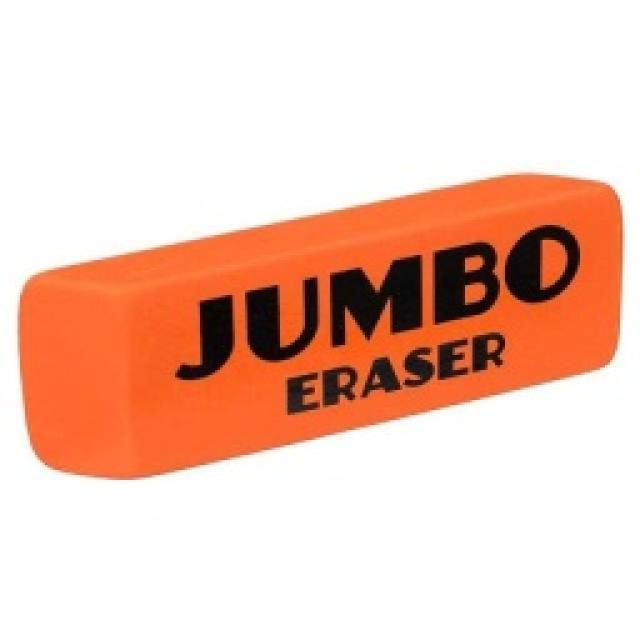Silgi: (21, 173, 624, 479)
